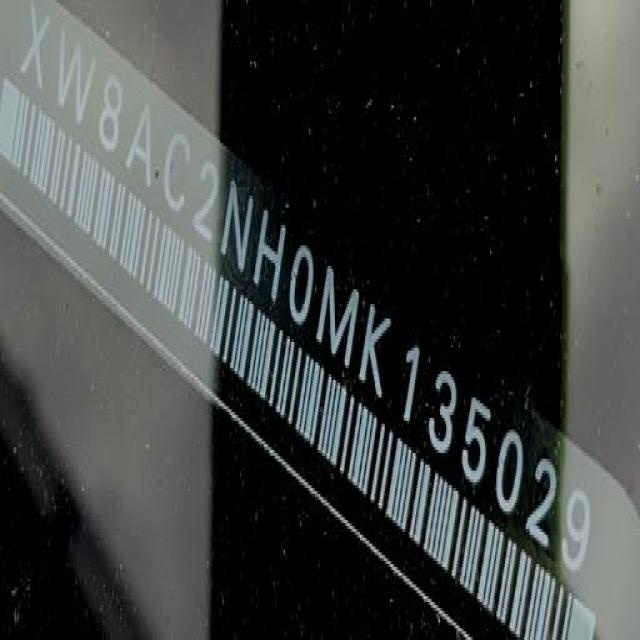0: (284, 230, 326, 331), (494, 420, 526, 520)
1: (389, 333, 430, 445)
2: (524, 444, 558, 550), (192, 152, 220, 245)
3: (427, 360, 457, 459)
5: (461, 389, 493, 494)
8: (99, 74, 123, 154)
9: (560, 485, 592, 576)
A: (126, 100, 151, 187)
C: (156, 128, 192, 232)
H: (251, 198, 292, 312)
K: (357, 292, 391, 402)
M: (315, 262, 363, 371)
N: (215, 172, 254, 286)
W: (57, 26, 101, 126)
X: (18, 1, 51, 93)
